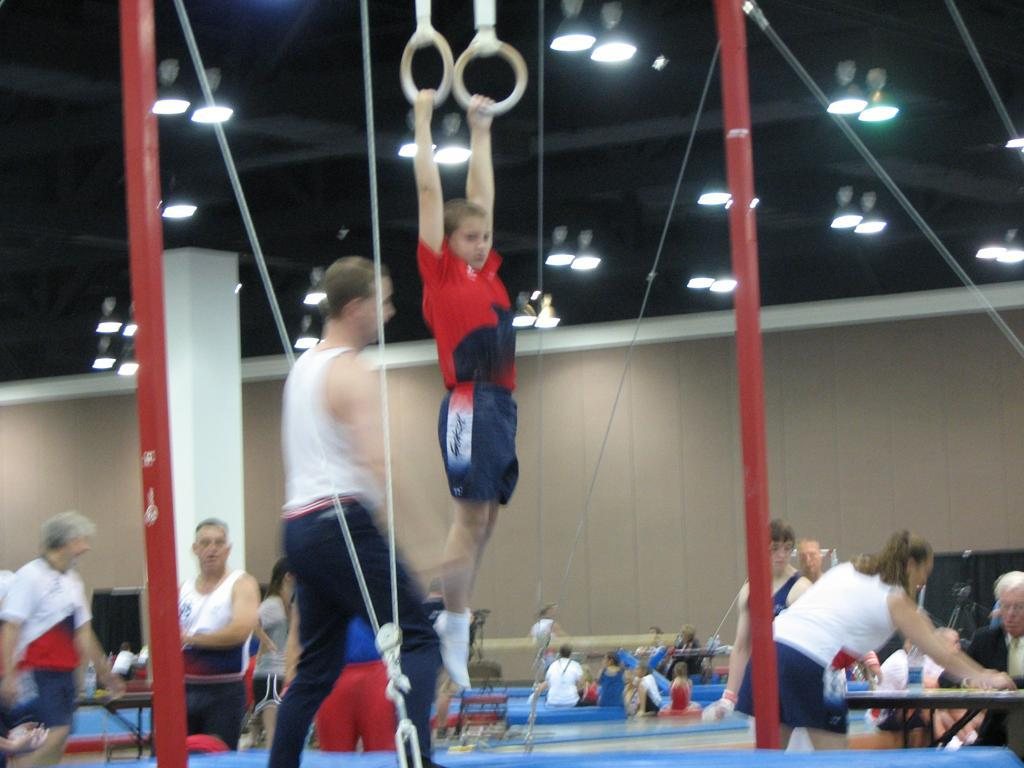face: (360, 283, 397, 342), (452, 223, 492, 268), (60, 538, 91, 572), (199, 533, 226, 571), (1002, 596, 1024, 633), (908, 562, 933, 593), (768, 542, 793, 571), (801, 551, 821, 573), (943, 632, 961, 656), (857, 558, 870, 572), (952, 587, 964, 599), (120, 643, 131, 655), (550, 607, 559, 619), (648, 631, 656, 643), (681, 630, 688, 641), (636, 668, 643, 675), (605, 658, 610, 665)
